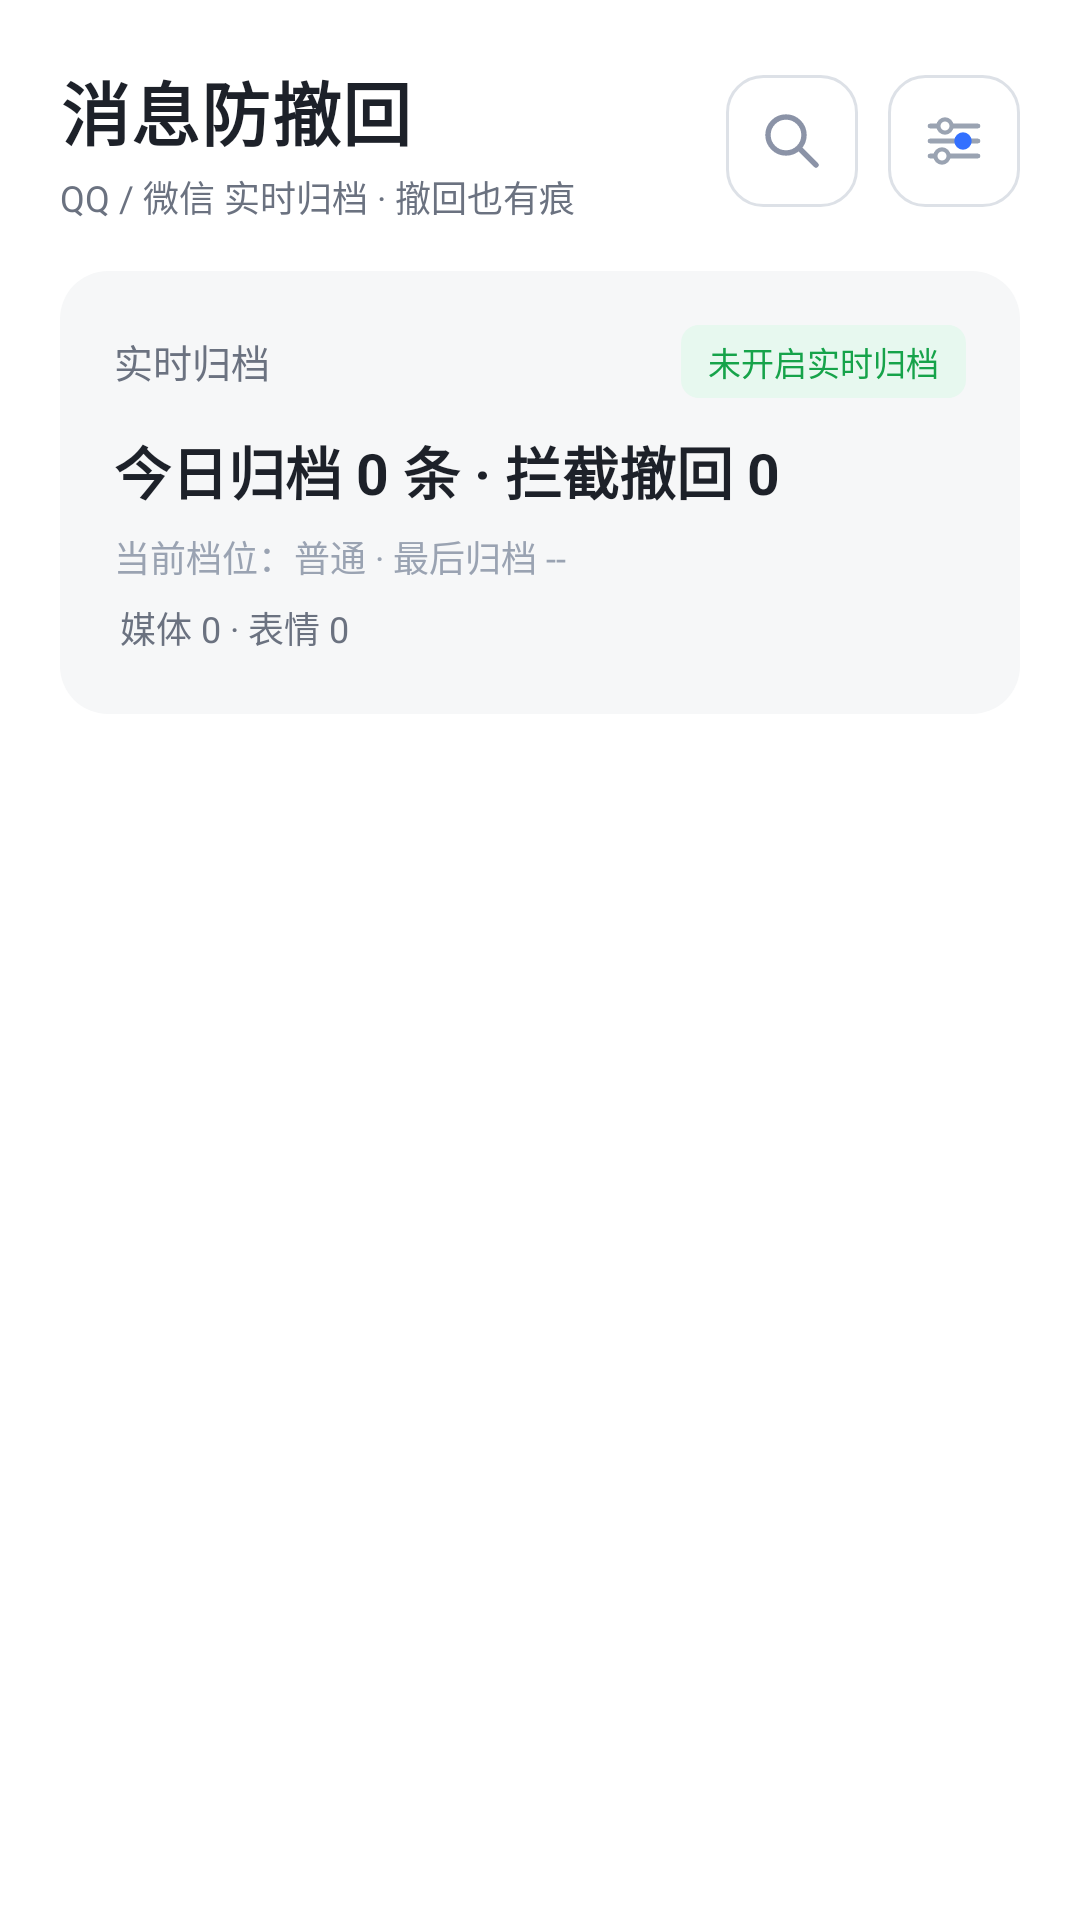

Screen size 1080px×1920px. Icon name, then its center in pixels as (x=x, y=y):
search: (x=792, y=141)
settings: (x=954, y=141)
